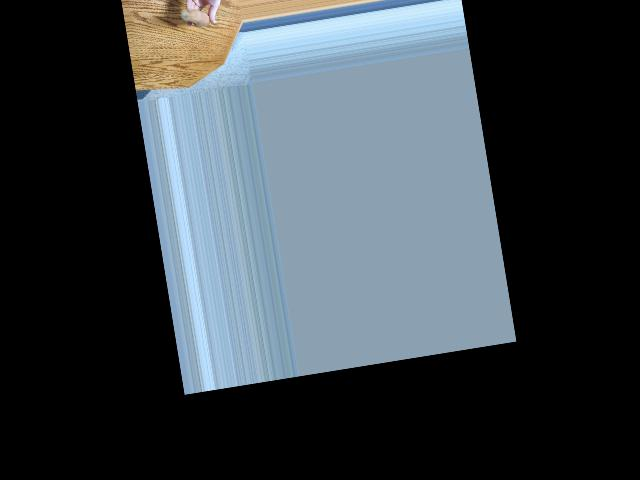sweet_potato: (179, 3, 212, 26)
